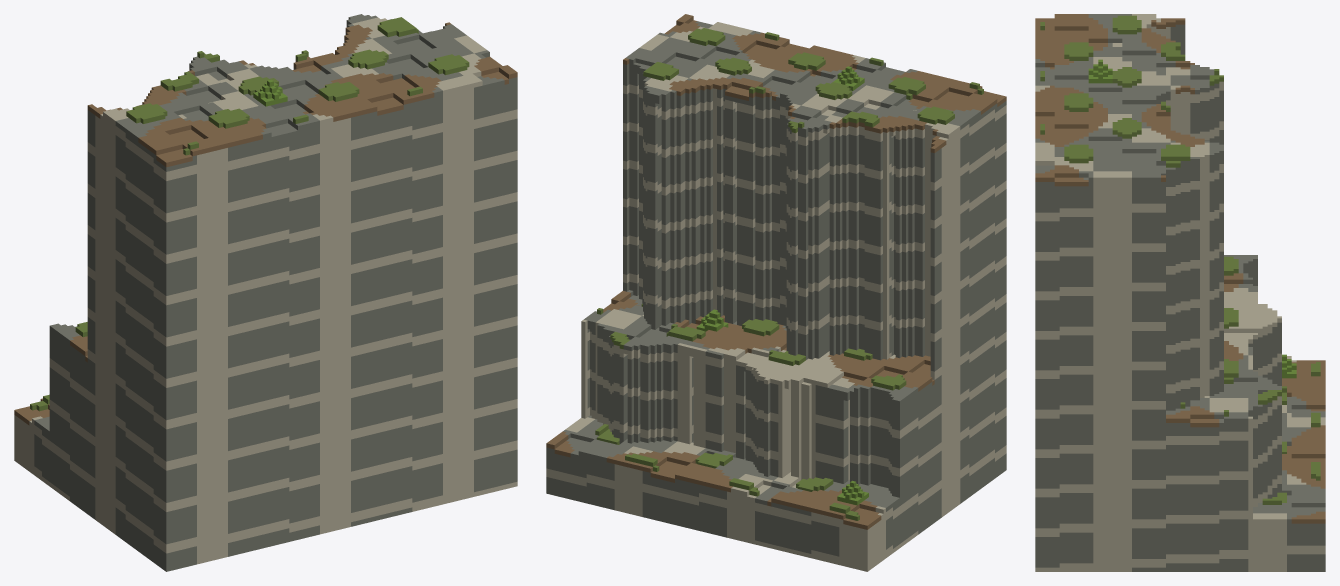
The model's file is visual-far.glb.
3 views of the same model, side by side, from view 1: azimuth 30°, elevation 25°; view 2: azimuth 150°, elevation 25°; view 3: azimuth 270°, elevation 25° (orthographic). The views are drawn at different scales.
Visible parts, largest first — view 1: 不规则高陡连续崖壁断面母版; view 2: 不规则高陡连续崖壁断面母版; view 3: 不规则高陡连续崖壁断面母版.
Part boxes in pixels (x1,y1,x2,y2): 不规则高陡连续崖壁断面母版: [14, 14, 517, 571]; 不规则高陡连续崖壁断面母版: [546, 14, 1006, 571]; 不规则高陡连续崖壁断面母版: [1035, 14, 1325, 571].
Bounding box in the file's own units: 16 × 18.8 × 12.
5 materials, 5 textured.
